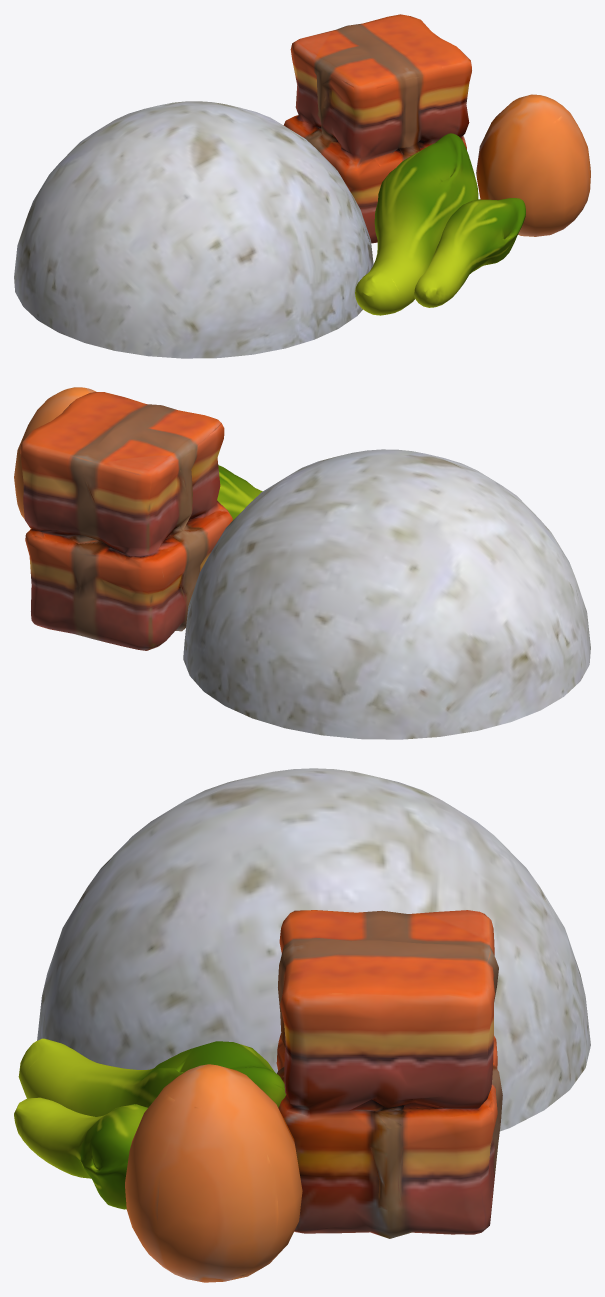
File: BraisedPorkRice.fbx
3 renders of one model, top to bottom at view 1: azimuth 30°, elevation 25°; view 2: azimuth 150°, elevation 25°; view 3: azimuth 270°, elevation 25°, orthographic. The views are drawn at different scales.
Parts seen in each view (by area): view 1: Com, Mesh1.001, Caithia, Caithia.001; view 2: Com, Mesh1.001, Caithia; view 3: Com, Mesh1.001, Caithia, Caithia.001.
Boxes of the visible parts, <box> form: Com: <box>14,101,373,358</box>; Mesh1.001: <box>283,14,590,243</box>; Caithia: <box>355,133,478,315</box>; Caithia.001: <box>414,198,525,307</box>; Com: <box>183,449,590,739</box>; Mesh1.001: <box>14,387,232,650</box>; Caithia: <box>217,465,262,520</box>; Com: <box>37,768,590,1131</box>; Mesh1.001: <box>125,910,502,1282</box>; Caithia: <box>18,1038,285,1116</box>; Caithia.001: <box>14,1097,147,1209</box>.
Size of the model in its own units: 327 by 105 by 208.
3 materials, 3 textured.
